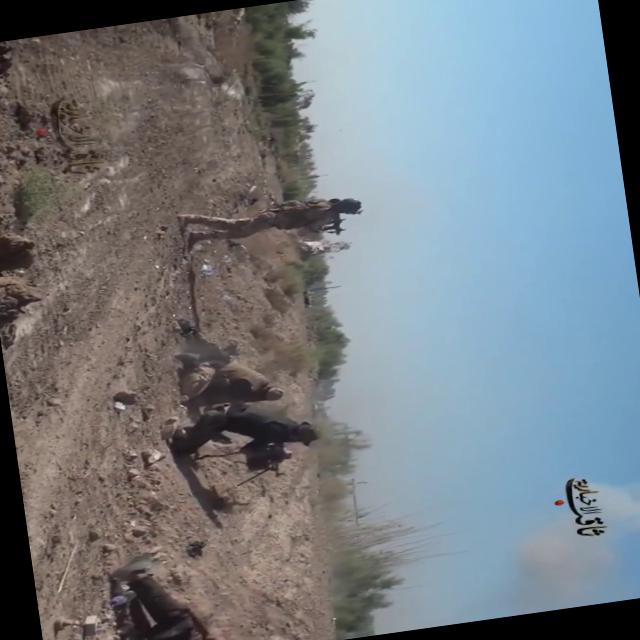long weapon: (229, 440, 297, 492)
